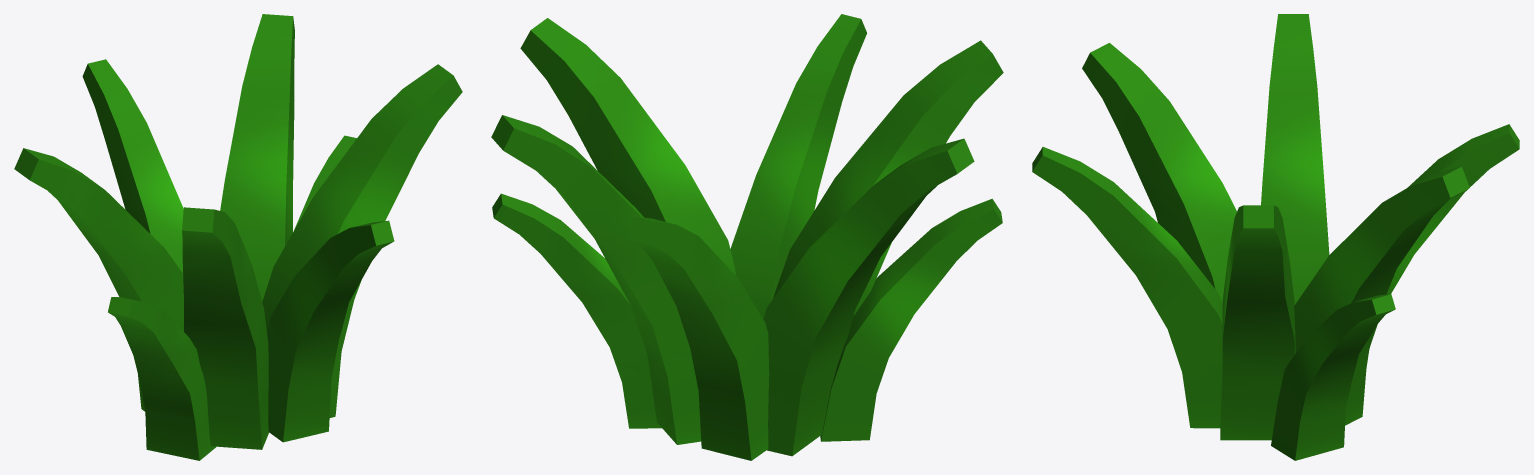
Rendered from poly_grass.glb.
3 renders of one model, left to right at view 1: azimuth 30°, elevation 25°; view 2: azimuth 150°, elevation 25°; view 3: azimuth 270°, elevation 25°, orthographic. The views are drawn at different scales.
Parts seen in each view (by area): view 1: Box001_11 - Default_0; view 2: Box001_11 - Default_0; view 3: Box001_11 - Default_0.
Part boxes in pixels (x1,y1,x2,y2): Box001_11 - Default_0: (14, 14, 462, 460); Box001_11 - Default_0: (491, 14, 1003, 460); Box001_11 - Default_0: (1032, 14, 1519, 460).
Size of the model in its own units: 10.87 by 7.66 by 11.19.
Materials: 1 (1 with a texture image).
